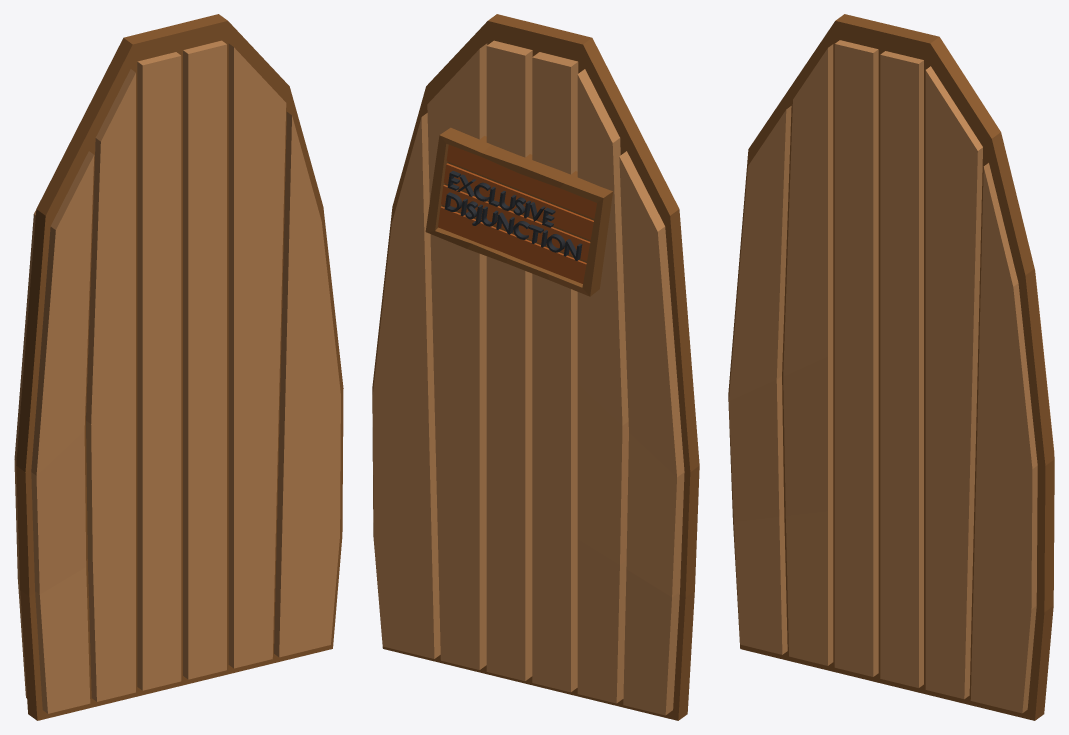
The model's file is XORDOOR.fbx.
3 views of the same model, side by side, from view 1: azimuth 30°, elevation 25°; view 2: azimuth 150°, elevation 25°; view 3: azimuth 330°, elevation 25° (orthographic).
Parts seen in each view (by area): view 1: Cube.224; view 2: Cube.224; view 3: Cube.224.
Part boxes in pixels (left/top/right/bottom): Cube.224: left=14, top=14, right=343, bottom=720; Cube.224: left=372, top=14, right=699, bottom=720; Cube.224: left=728, top=14, right=1054, bottom=720.
Size of the model in its own units: 318 by 625 by 55.71.
